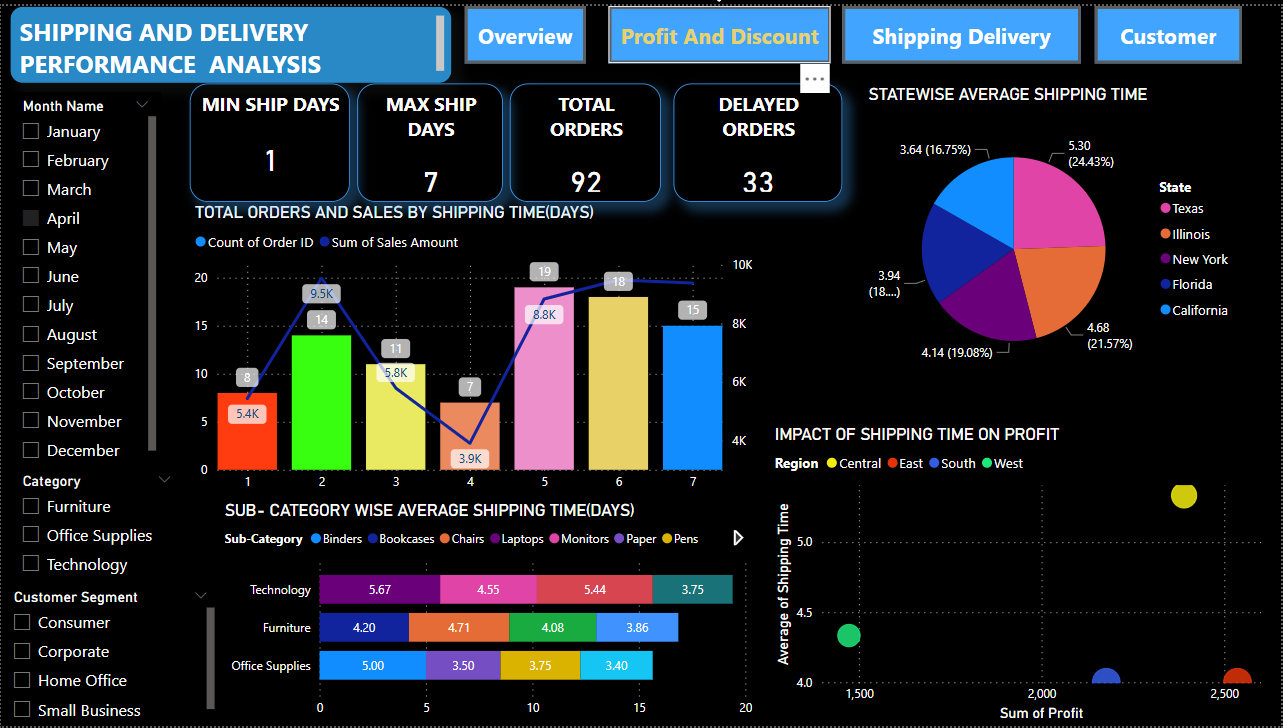

The page's visual inventory and layout, read from the dashboard file:
{"tool":"powerbi","page":{"name":"Shipping and Delivery","canvas":[1280,720],"ordinal":2},"visuals":[{"type":"textbox","box":[8.8,0,442.5,77.5],"z":0},{"type":"lineClusteredColumnComboChart","title":"TOTAL ORDERS AND SALES BY SHIPPING TIME(DAYS)","fields":{"Y":["Count(Superstore.Order ID)"],"Category":["Superstore.Shipping Time"],"Y2":["Sum(Superstore.Sales Amount)"]},"box":[188.8,195.9,567.8,297.5],"z":2000},{"type":"cardVisual","title":"DELAYED ORDERS","fields":{"Data":["Superstore.Delayed_Orders"]},"box":[672.2,77.2,168.8,118.7],"z":3000},{"type":"cardVisual","title":"MIN SHIP DAYS","fields":{"Data":["Min(Superstore.Shipping Time)"]},"box":[188.8,77.2,160.2,118.7],"z":4000},{"type":"cardVisual","title":"MAX SHIP DAYS","fields":{"Data":["Max(Superstore.Shipping Time)"]},"box":[356.1,77.2,145.9,118.7],"z":5000},{"type":"cardVisual","title":"TOTAL ORDERS","fields":{"Data":["Superstore.Total_Orders"]},"box":[509.1,77.2,151.6,118.7],"z":6000},{"type":"scatterChart","title":"IMPACT OF SHIPPING TIME ON PROFIT","fields":{"X":["Sum(Superstore.Profit)"],"Y":["Avg(Superstore.Shipping Time)"],"Series":["Superstore.Region"],"Size":["Sum(Superstore.Sales Amount)"]},"box":[768.8,417.5,511.2,302.5],"z":7000},{"type":"slicer","fields":{"Values":["Superstore.Customer Segment"]},"box":[0,577.5,218.8,142.5],"z":8000},{"type":"slicer","fields":{"Values":["Superstore.Category"]},"box":[8.8,461.2,173.8,116.2],"z":9000},{"type":"slicer","fields":{"Values":["Superstore.Month Name"]},"box":[8.8,86.2,151.2,375],"z":10000},{"type":"barChart","title":"SUB- CATEGORY WISE AVERAGE SHIPPING TIME(DAYS)","fields":{"Category":["Superstore.Category"],"Y":["Avg(Superstore.Shipping Time)"],"Series":["Superstore.Sub-Category"]},"box":[218.8,493.4,537.7,226],"z":11000},{"type":"actionButton","box":[1093.8,0,147.5,57.5],"z":13000},{"type":"actionButton","box":[841.2,0,238.8,57.5],"z":14000},{"type":"actionButton","box":[463.8,0,121.2,57.5],"z":15000},{"type":"actionButton","box":[607.5,0,222.5,57.5],"z":16000},{"type":"pieChart","title":"STATEWISE AVERAGE SHIPPING TIME","fields":{"Y":["Avg(Superstore.Shipping Time)"],"Category":["Superstore.State"]},"box":[862.5,77.5,378.8,312.5],"z":16001}]}

Visuals, with their boxes in screenshot pixels (x1, y1, x2, y2), scaled from the page's 1280x720 canvas onto the 1283x728 screenshot:
textbox: <bbox>9, 0, 452, 78</bbox>
"TOTAL ORDERS AND SALES BY SHIPPING TIME(DAYS)" lineClusteredColumnComboChart: <bbox>189, 198, 758, 499</bbox>
"DELAYED ORDERS" cardVisual: <bbox>674, 78, 843, 198</bbox>
"MIN SHIP DAYS" cardVisual: <bbox>189, 78, 350, 198</bbox>
"MAX SHIP DAYS" cardVisual: <bbox>357, 78, 503, 198</bbox>
"TOTAL ORDERS" cardVisual: <bbox>510, 78, 662, 198</bbox>
"IMPACT OF SHIPPING TIME ON PROFIT" scatterChart: <bbox>771, 422, 1282, 727</bbox>
slicer - Superstore.Customer Segment: <bbox>0, 584, 219, 727</bbox>
slicer - Superstore.Category: <bbox>9, 466, 183, 584</bbox>
slicer - Superstore.Month Name: <bbox>9, 87, 160, 466</bbox>
"SUB- CATEGORY WISE AVERAGE SHIPPING TIME(DAYS)" barChart: <bbox>219, 499, 758, 727</bbox>
actionButton: <bbox>1096, 0, 1244, 58</bbox>
actionButton: <bbox>843, 0, 1083, 58</bbox>
actionButton: <bbox>465, 0, 586, 58</bbox>
actionButton: <bbox>609, 0, 832, 58</bbox>
"STATEWISE AVERAGE SHIPPING TIME" pieChart: <bbox>865, 78, 1244, 394</bbox>
